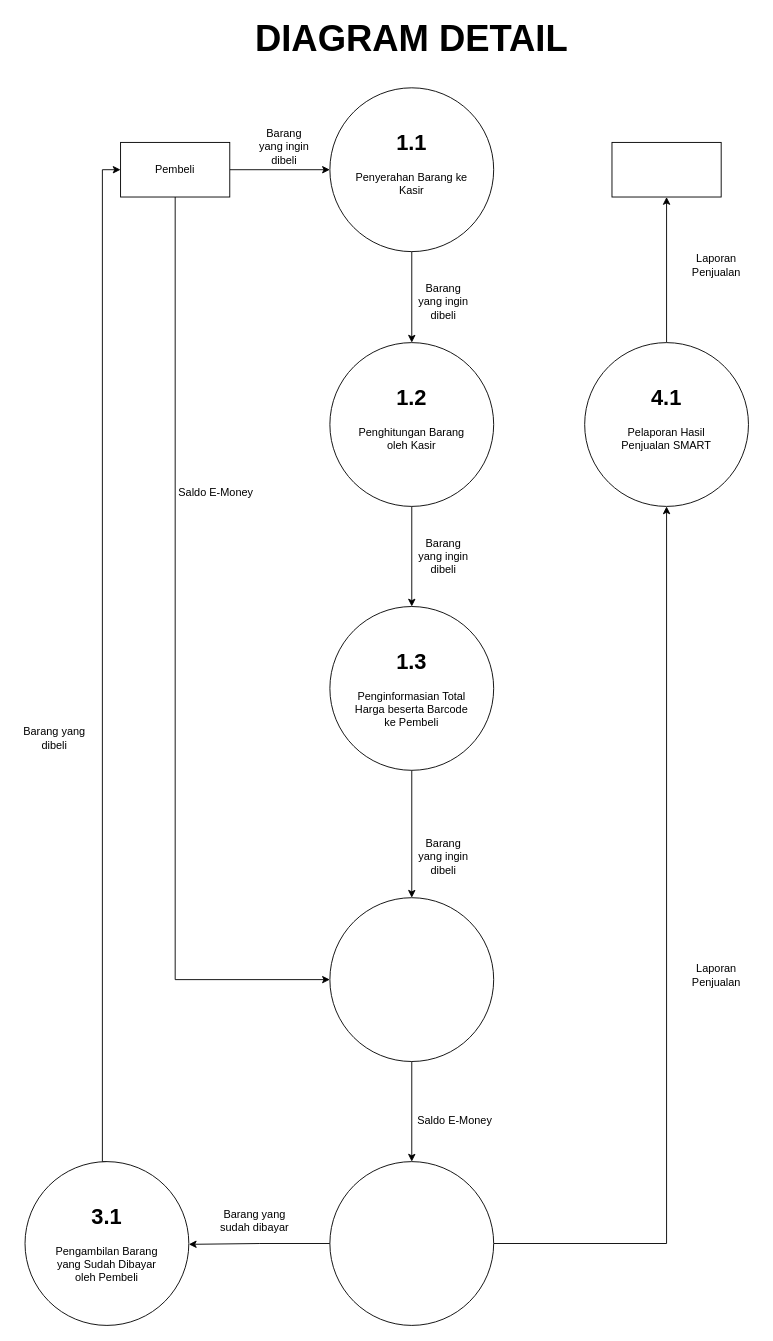
This 773x1341 diagram has some shape labels left out. Each missing label, with the centre of its shape:
2.1 Pemindaian Barcode oleh Pembeli: pixel 411 979
2.2 Pengonfirmasian Pembayaran Berhasil: pixel 411 1243
Kepala SMART: pixel 666 169
